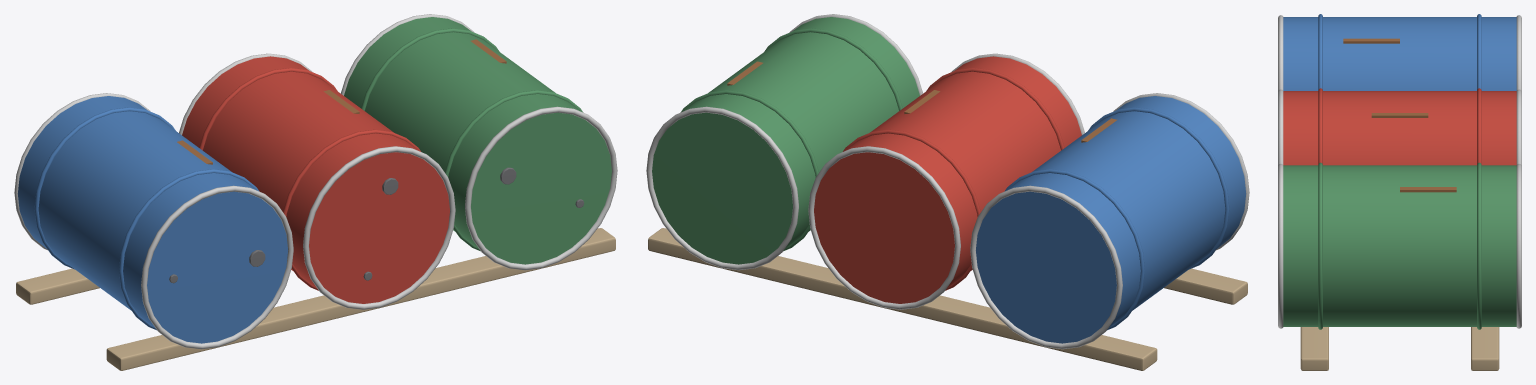
Rendered from barrels.glb.
3 renders of one model, left to right at view 1: azimuth 30°, elevation 25°; view 2: azimuth 150°, elevation 25°; view 3: azimuth 270°, elevation 25°, orthographic. The views are drawn at different scales.
Visible parts, largest first — view 1: SM_barrels; view 2: SM_barrels; view 3: SM_barrels.
Boxes of the visible parts, bbox=[...] form: SM_barrels: bbox=[14, 14, 617, 370]; SM_barrels: bbox=[646, 14, 1249, 370]; SM_barrels: bbox=[1278, 14, 1521, 370].
Bounding box in the file's own units: 1.9 × 0.63 × 0.86.
